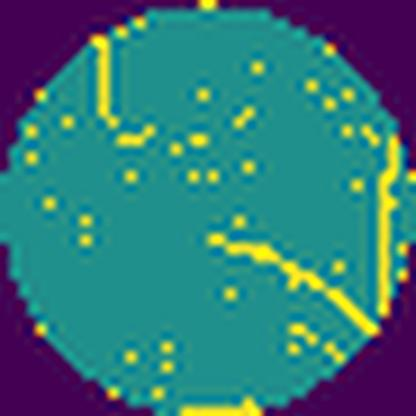Scratch: (205, 229, 378, 340), (374, 132, 402, 319), (87, 35, 123, 134)
